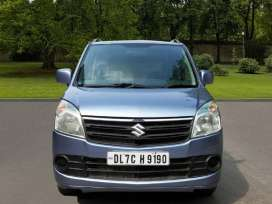license_plate: (108, 151, 169, 166)
